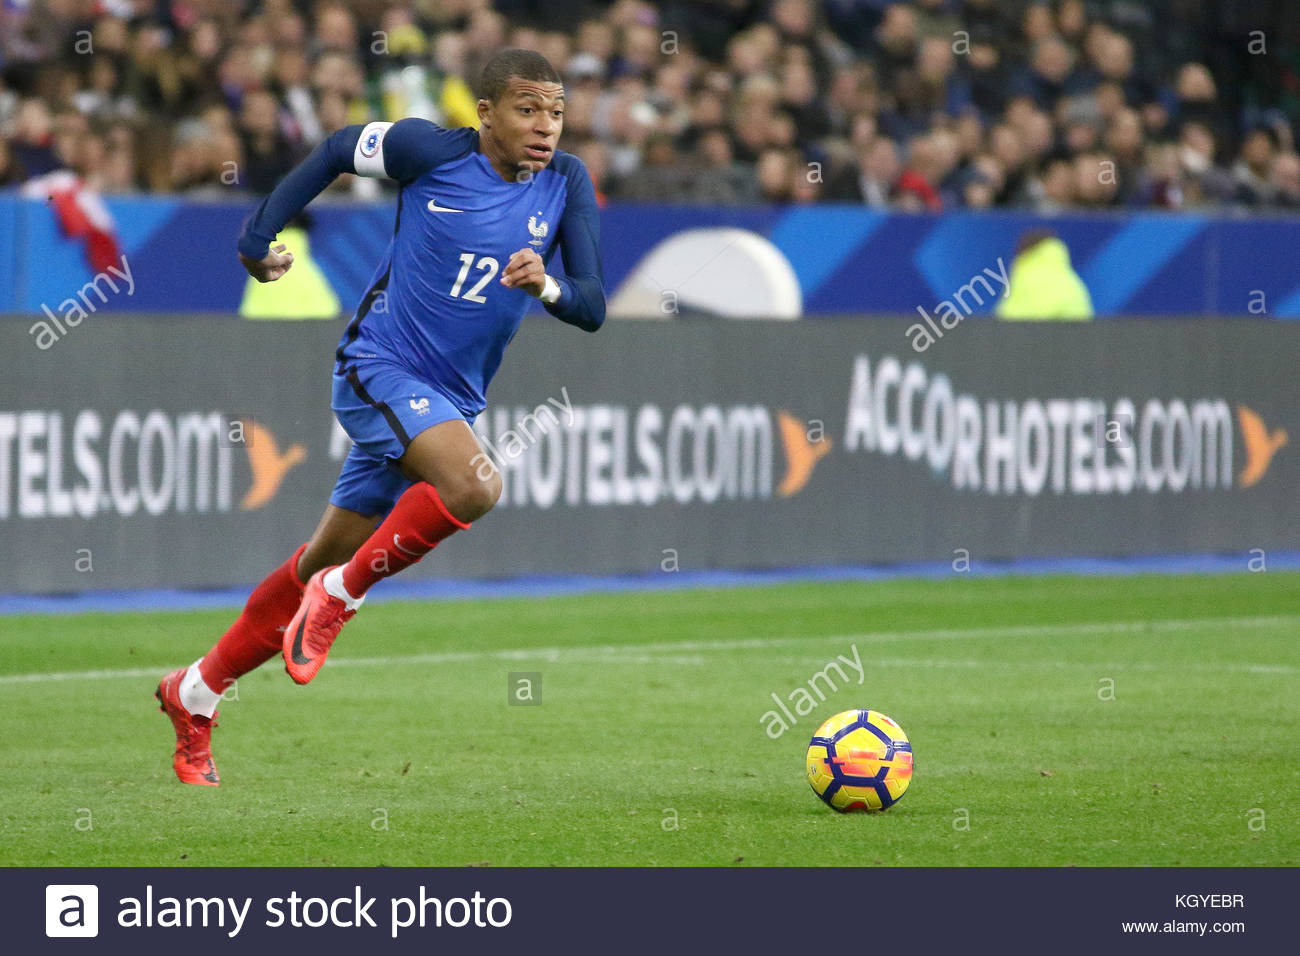soccer player: (155, 47, 612, 790)
soccerball: (795, 704, 926, 823)
